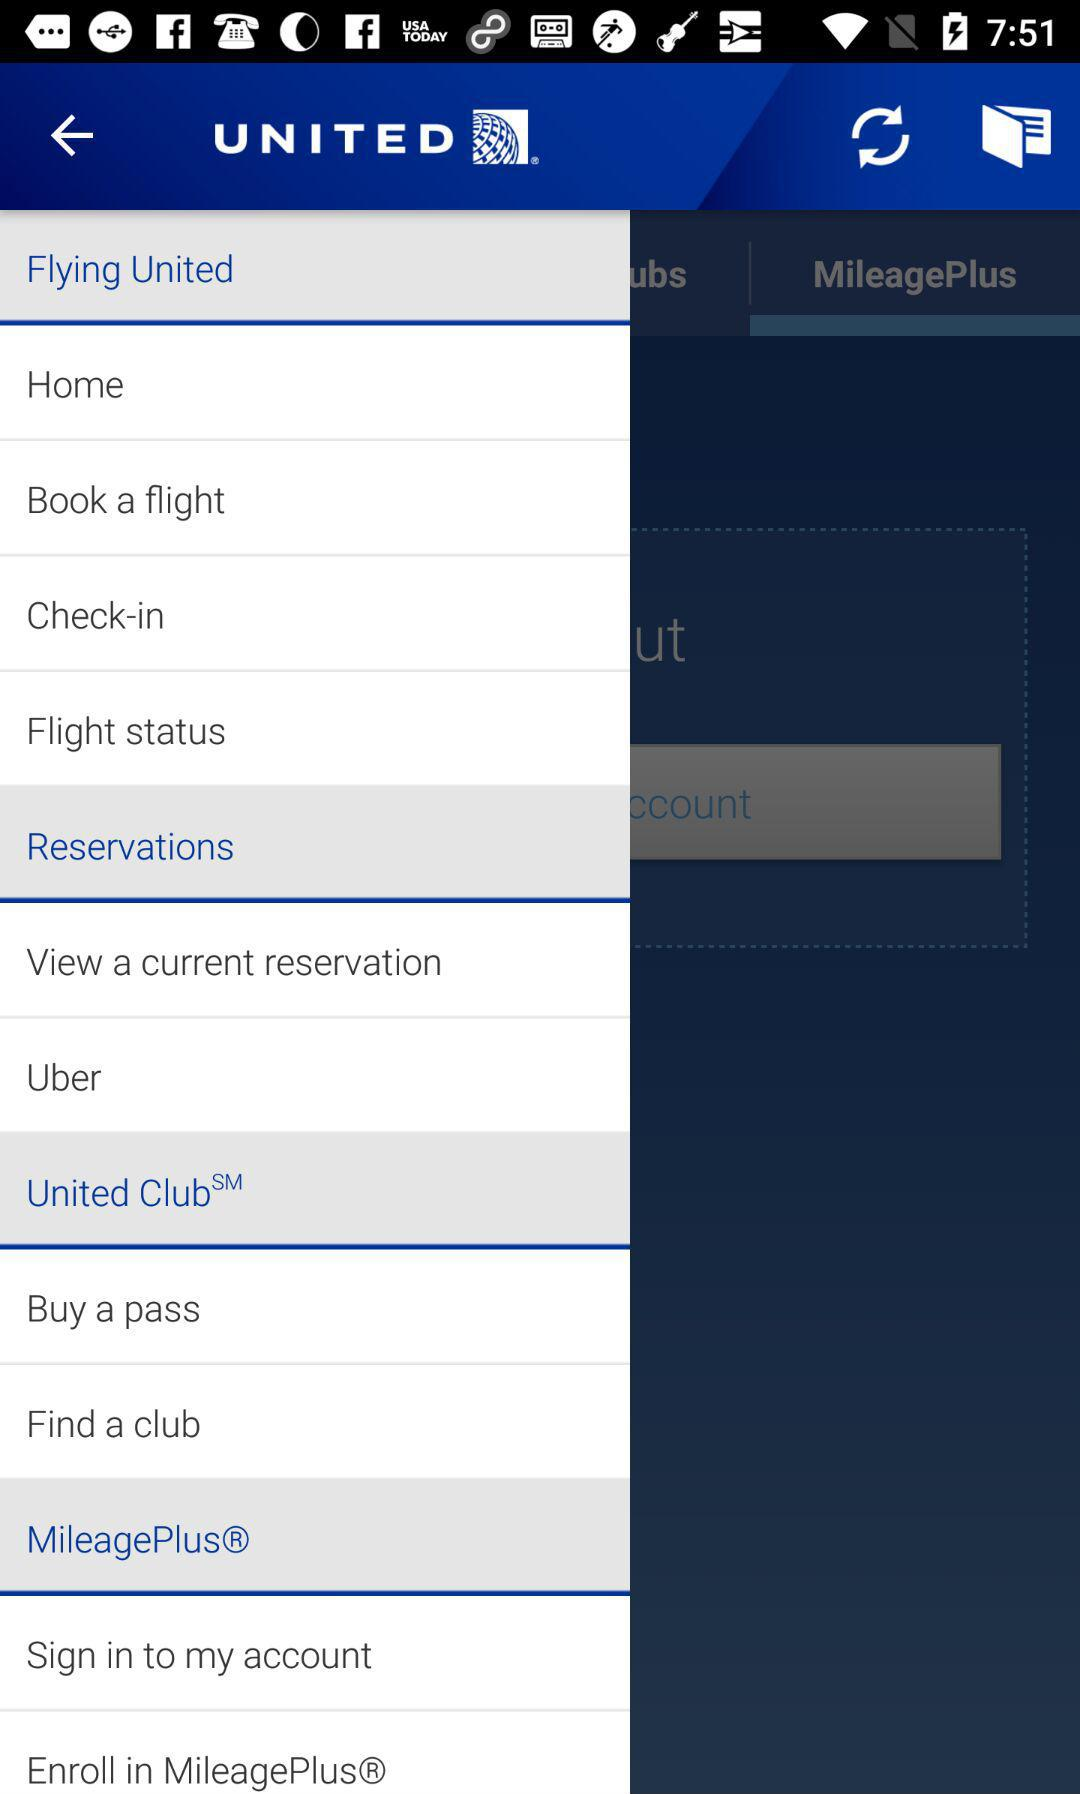Drawer: (1, 211, 632, 1794)
Icon: (981, 104, 1052, 170), (851, 104, 911, 170), (50, 114, 95, 158)
Image: (213, 109, 541, 167)
Text: (27, 1639, 373, 1677), (29, 1754, 387, 1791), (26, 947, 442, 978), (28, 1524, 251, 1562), (28, 252, 234, 293), (29, 1173, 243, 1208), (28, 715, 225, 753), (29, 484, 225, 523), (29, 830, 234, 862), (29, 1294, 201, 1331), (28, 1408, 202, 1440), (28, 600, 165, 630), (28, 370, 126, 400), (29, 1062, 102, 1093)
Toolbar: (1, 64, 1080, 211)
UpperTaskBar: (1, 1, 1080, 64)
